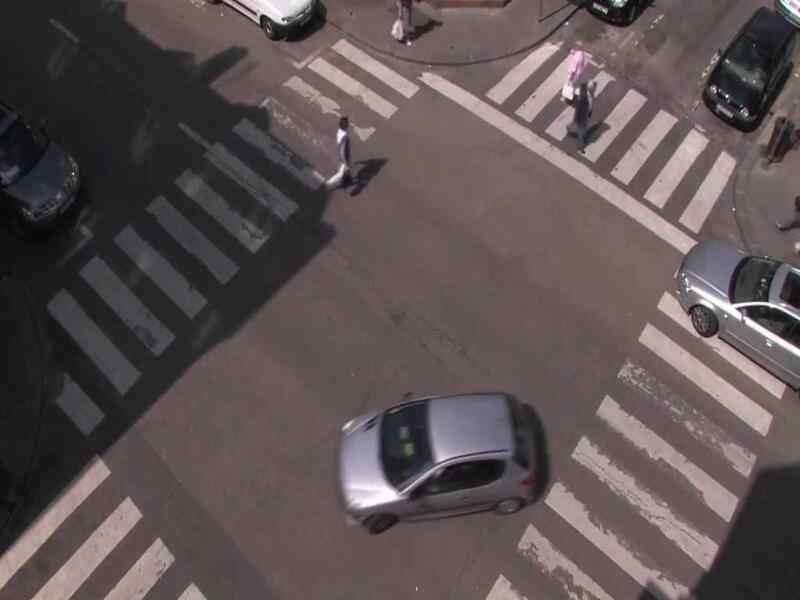car: (337, 390, 544, 530)
